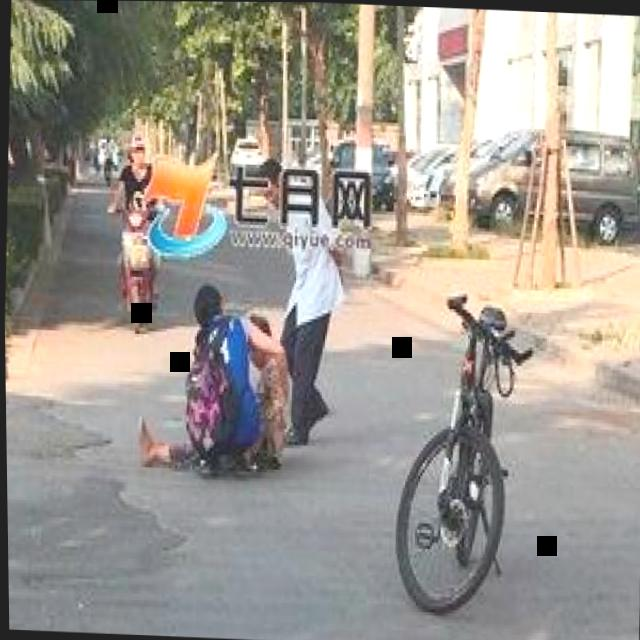Fall-Detected: (128, 273, 297, 482)
